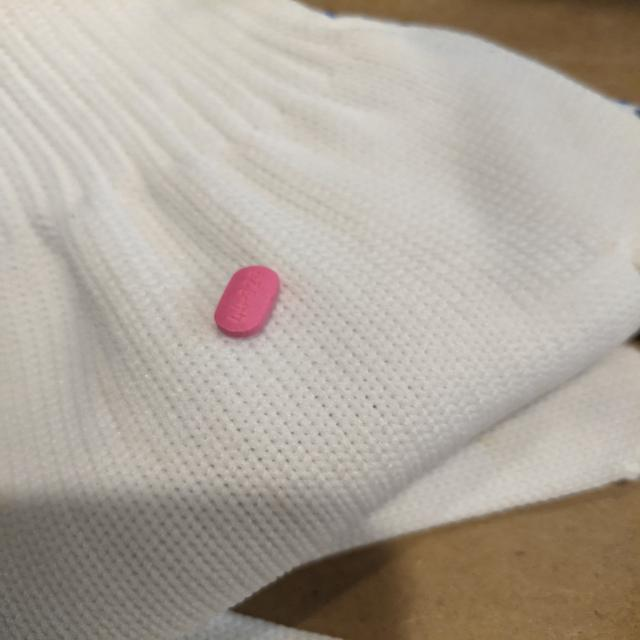non-organic waste: (213, 264, 281, 340)
